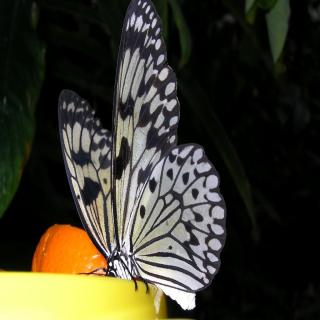Orange: (34, 222, 95, 275)
